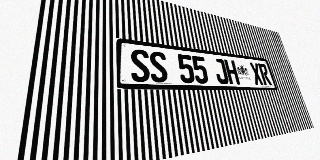5: (177, 54, 196, 83), (191, 56, 209, 84)
H: (224, 59, 240, 84)
J: (213, 58, 229, 84)
R: (258, 63, 272, 85)
S: (130, 48, 151, 82), (149, 51, 169, 83)
X: (249, 62, 264, 85)
